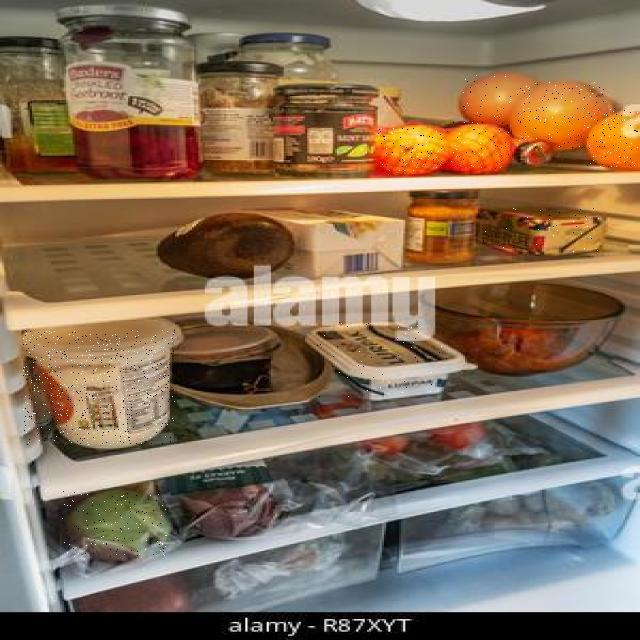apple: (62, 490, 169, 557)
butter: (480, 208, 604, 254)
cream cheese: (312, 321, 459, 397)
orange: (518, 82, 604, 148), (463, 72, 531, 122), (444, 122, 511, 170), (587, 108, 638, 167), (378, 126, 442, 172)
yoghurt: (23, 330, 175, 445)
